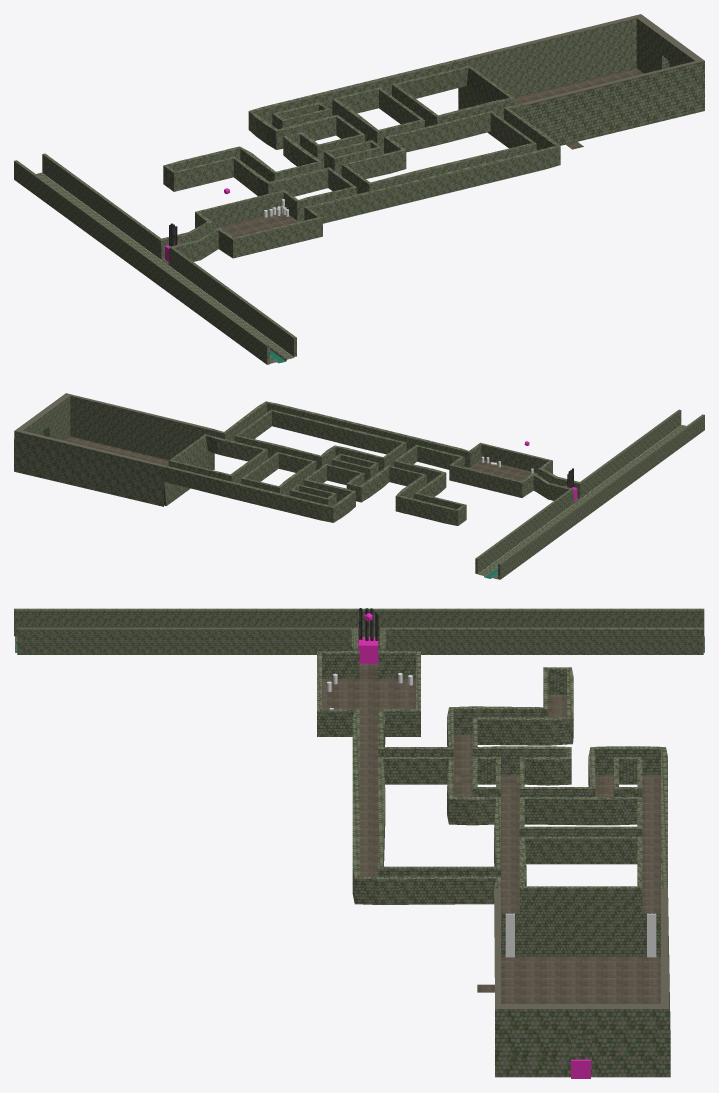
Rendered from Level_005.glb.
3 views of the same model, one above another, from view 1: azimuth 30°, elevation 25°; view 2: azimuth 150°, elevation 25°; view 3: azimuth 270°, elevation 25° (orthographic). The views are drawn at different scales.
Parts seen in each view (by area): view 1: Plane.001, Plane; view 2: Plane.001, Plane; view 3: Plane.001, Plane.
Boxes of the visible parts, bbox=[...] form: Plane.001: bbox=[14, 14, 704, 364]; Plane: bbox=[36, 68, 643, 363]; Plane.001: bbox=[14, 393, 704, 579]; Plane: bbox=[64, 425, 686, 579]; Plane.001: bbox=[14, 608, 704, 1077]; Plane: bbox=[15, 636, 704, 1003].
Bounding box in the file's own units: 206 × 27.15 × 147.
6 materials, 4 textured.
